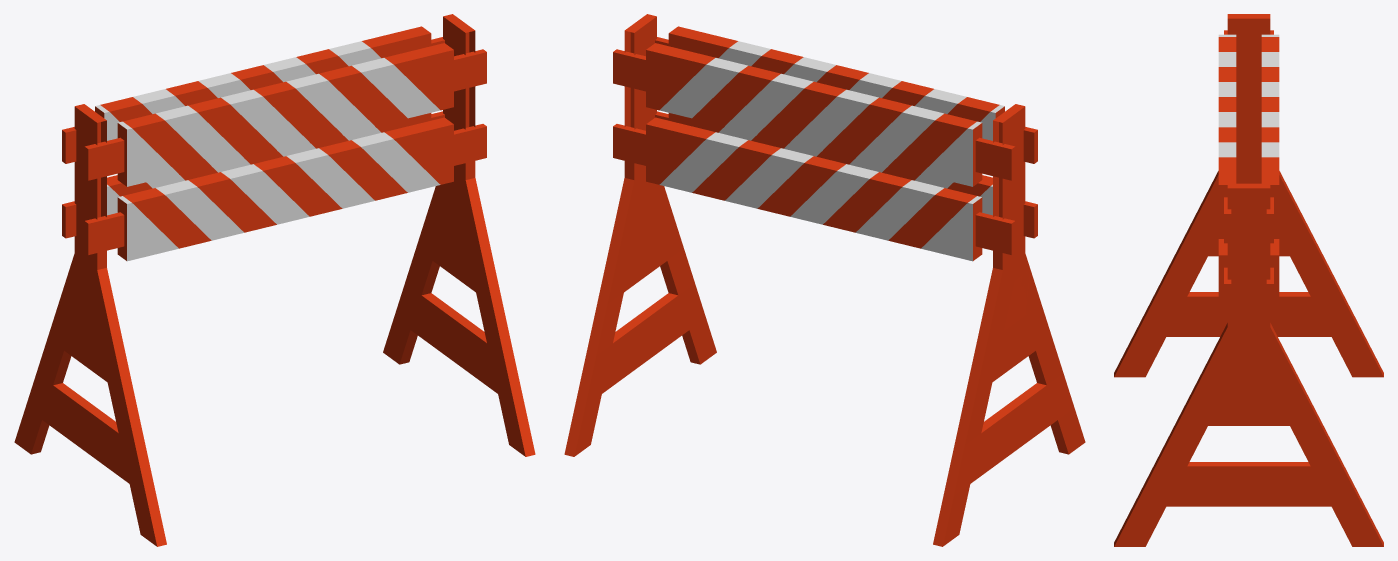
The picture shows the model from 3 angles, left to right: view 1: azimuth 30°, elevation 25°; view 2: azimuth 150°, elevation 25°; view 3: azimuth 270°, elevation 25°; orthographic projection. The views are drawn at different scales.
Visible parts, largest first — view 1: O6; view 2: O6; view 3: O6.
Part boxes in pixels (left/top/right/bottom): O6: left=14, top=14, right=535, bottom=546; O6: left=564, top=14, right=1085, bottom=546; O6: left=1114, top=14, right=1383, bottom=546.
Size of the model in its own units: 244 by 222 by 151.
